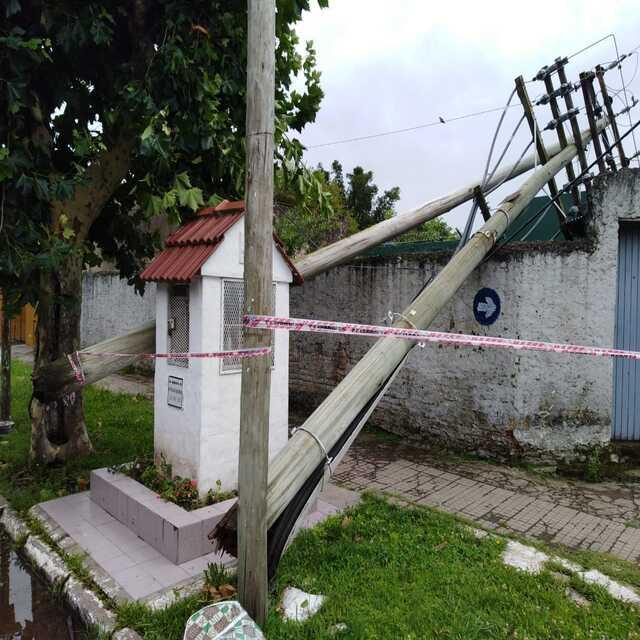Inclined Pole: (206, 47, 638, 570), (26, 48, 598, 400)
